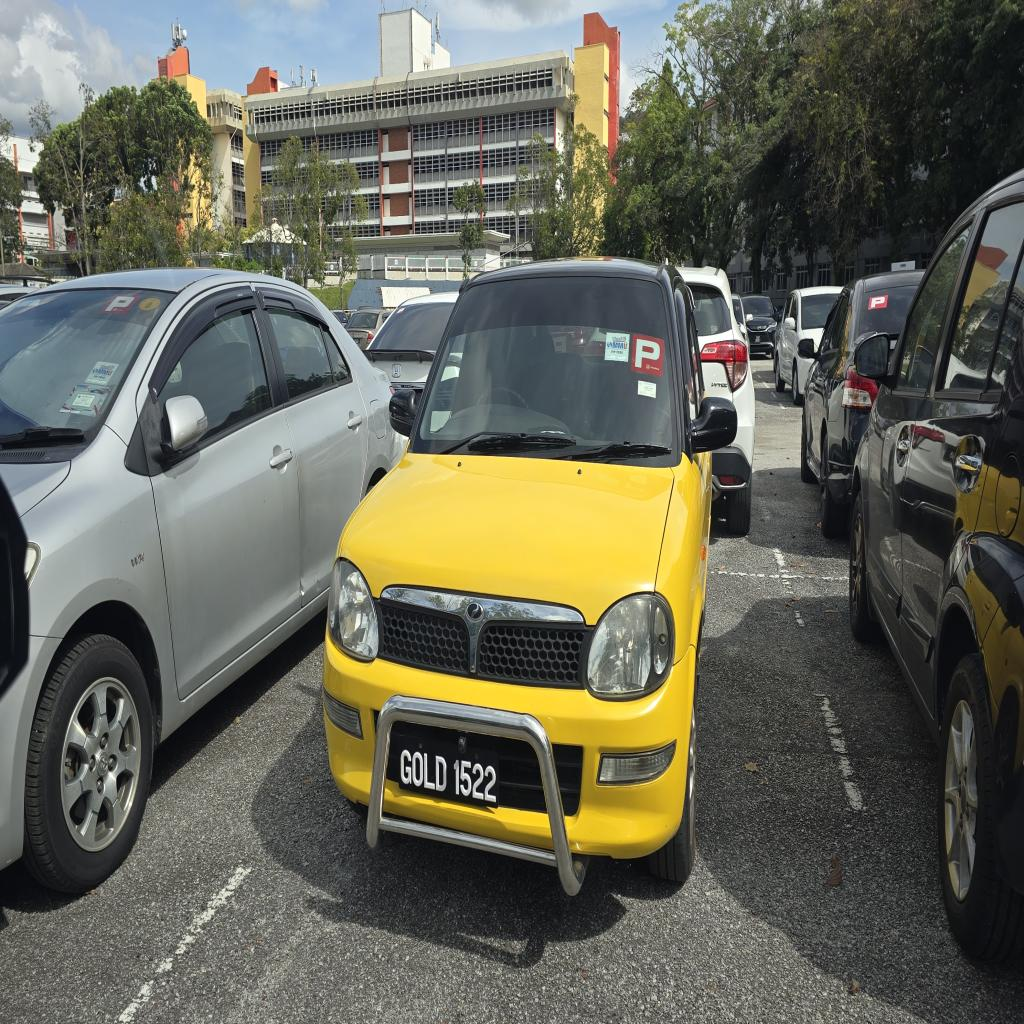car: (323, 260, 735, 894)
car plate: (393, 736, 498, 807)
